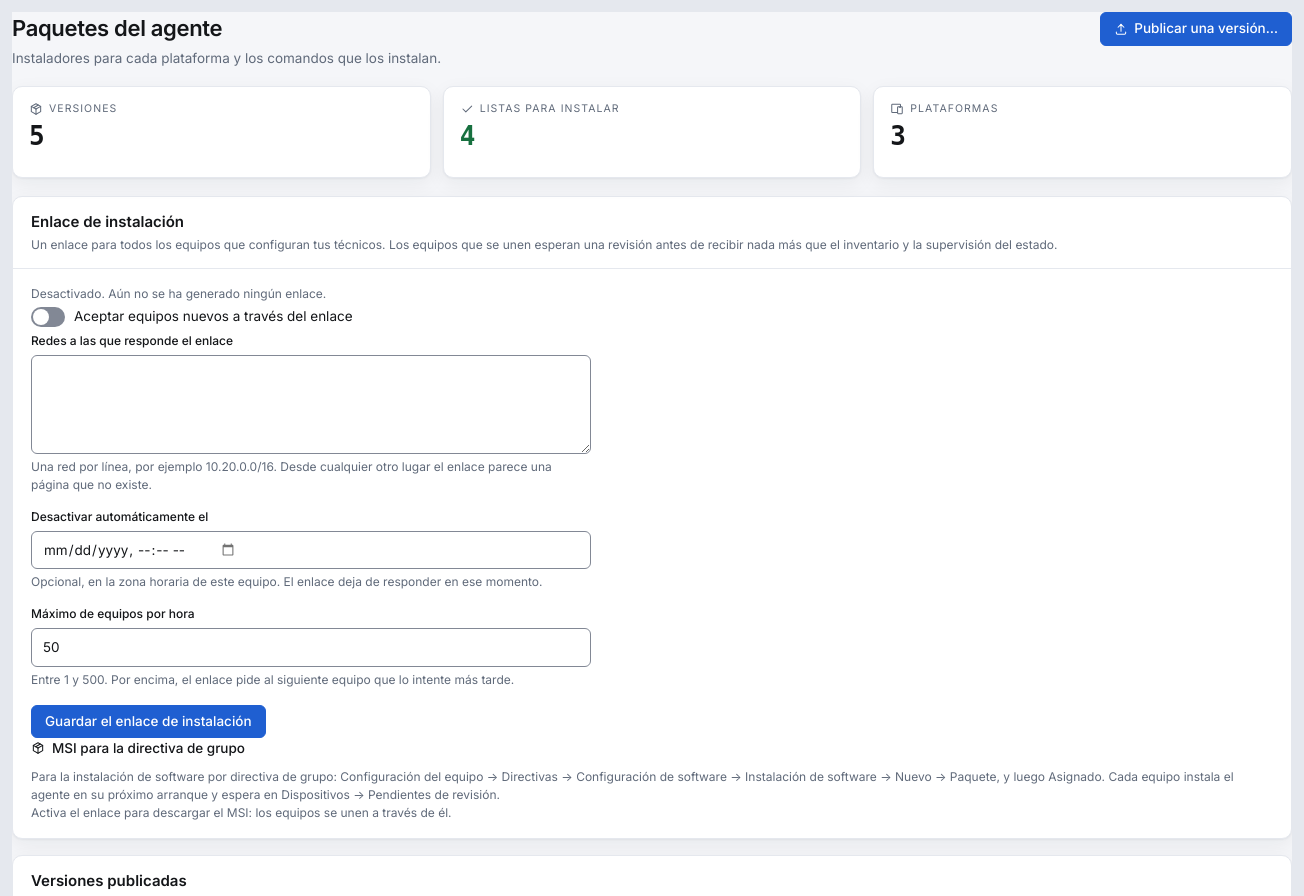
Scenario: agent packages in Spanish › words the install link when it is off, refused for want of a network, and not saved
Check: the text "Desactivado. Aún no se ha generado ningún enlace." is shown, box [31,286,326,301]
Check: the text "Activa el enlace para descargar el MSI: los equipos se unen a través de él." is shown, box [31,805,452,820]
Click the switch labelled "Aceptar equipos nuevos a través del enlace". click: point(192, 317)
box: [31,303,352,331]
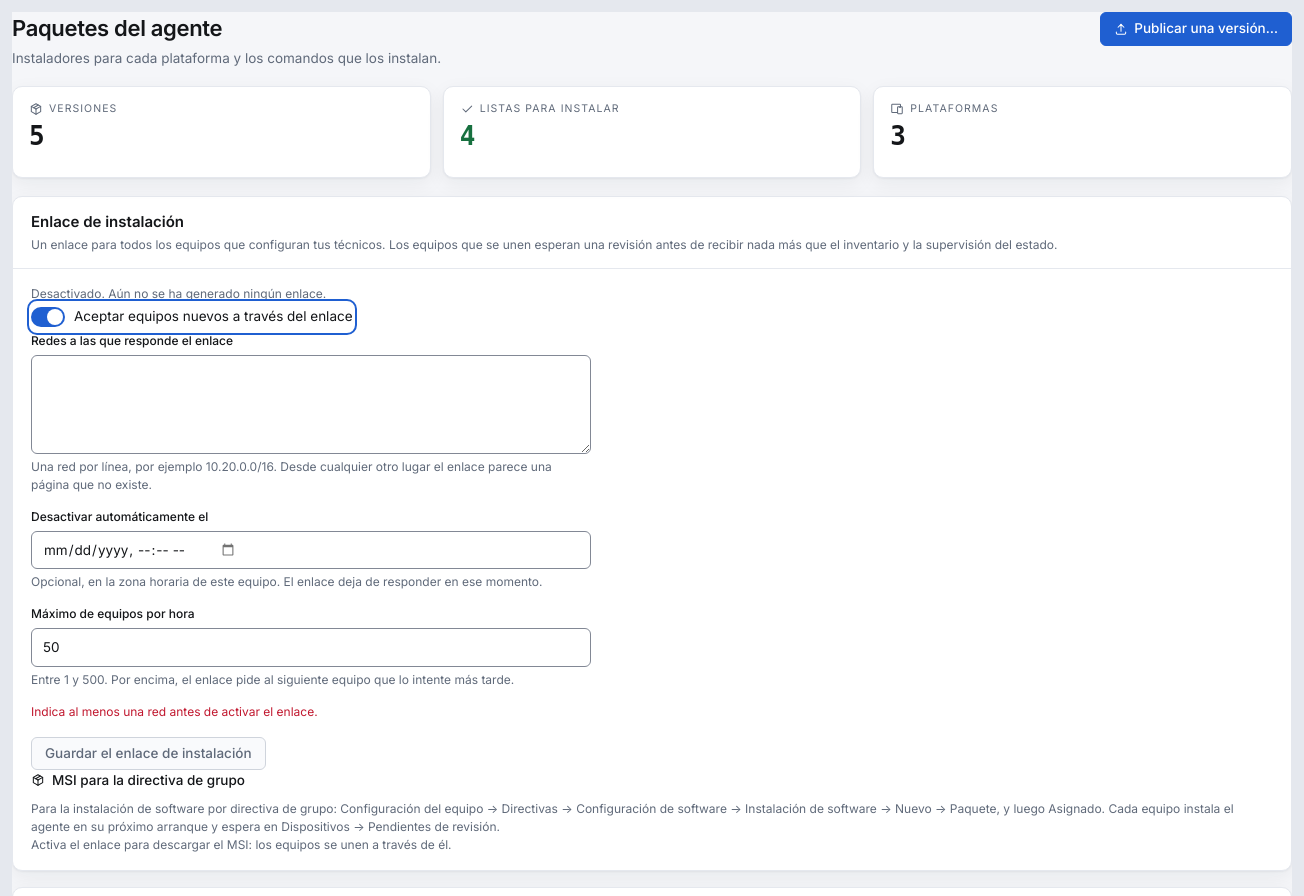
Check: the text "Indica al menos una red antes de activar el enlace." is shown, box [31,704,318,718]
Type "10.20.0.0/16" into the text box labelled "Redes a las que responde el enlace". click: point(311, 404)
box: [31,355,591,454]
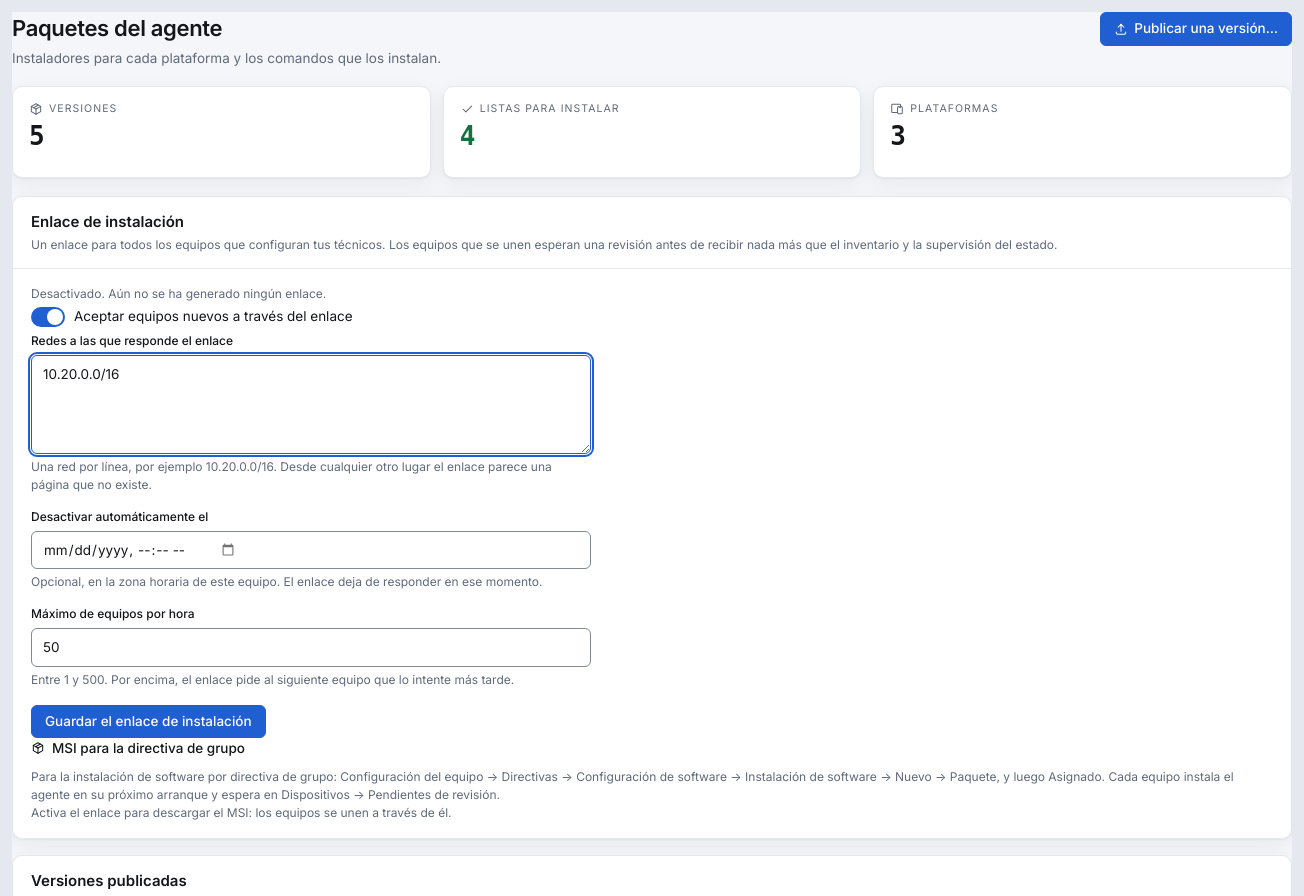
Click the button "Guardar el enlace de instalación". click: point(148, 721)
box: [31,704,266,738]
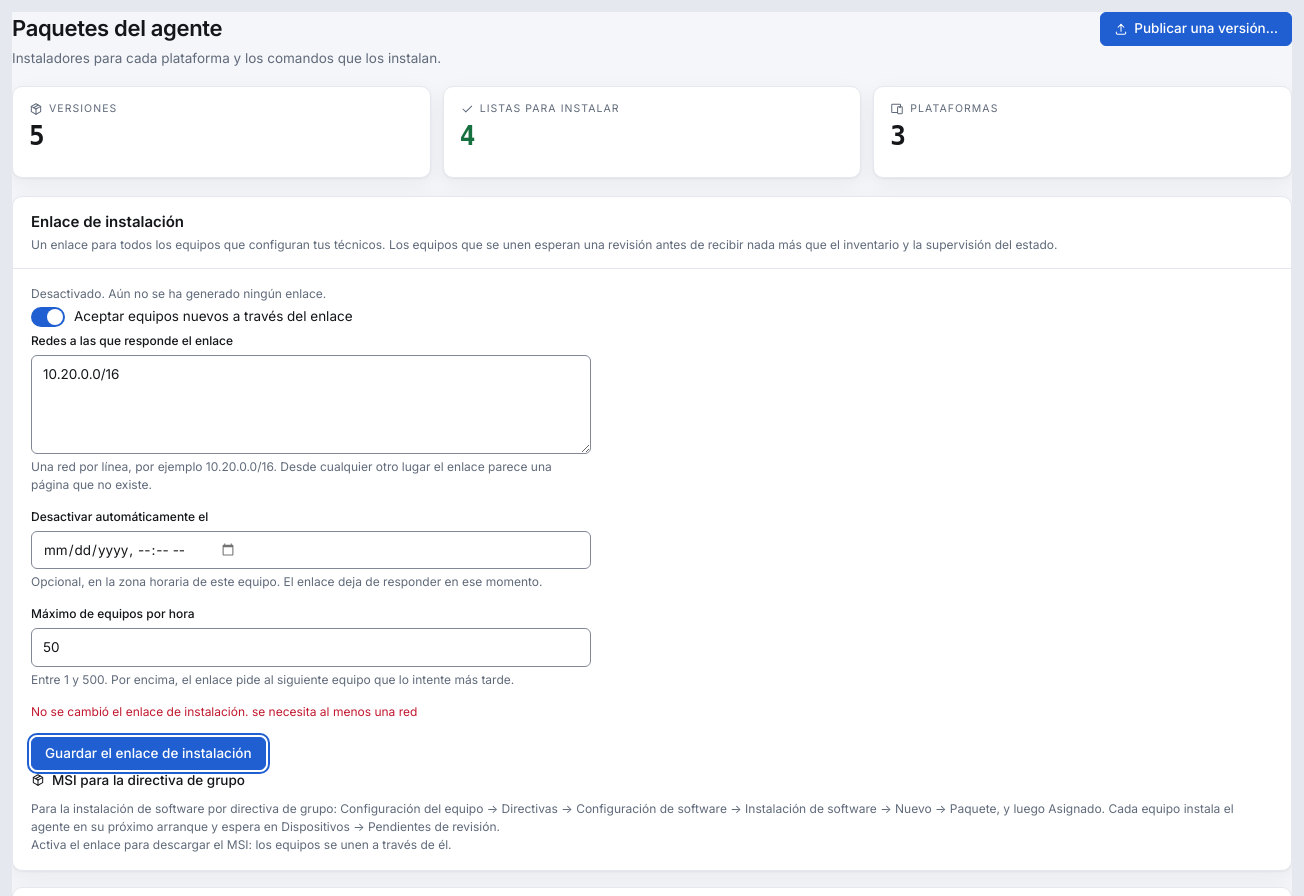
Check: the text "No se cambió el enlace de instalación. se necesita al menos una red" is shown, box [31,704,417,718]
